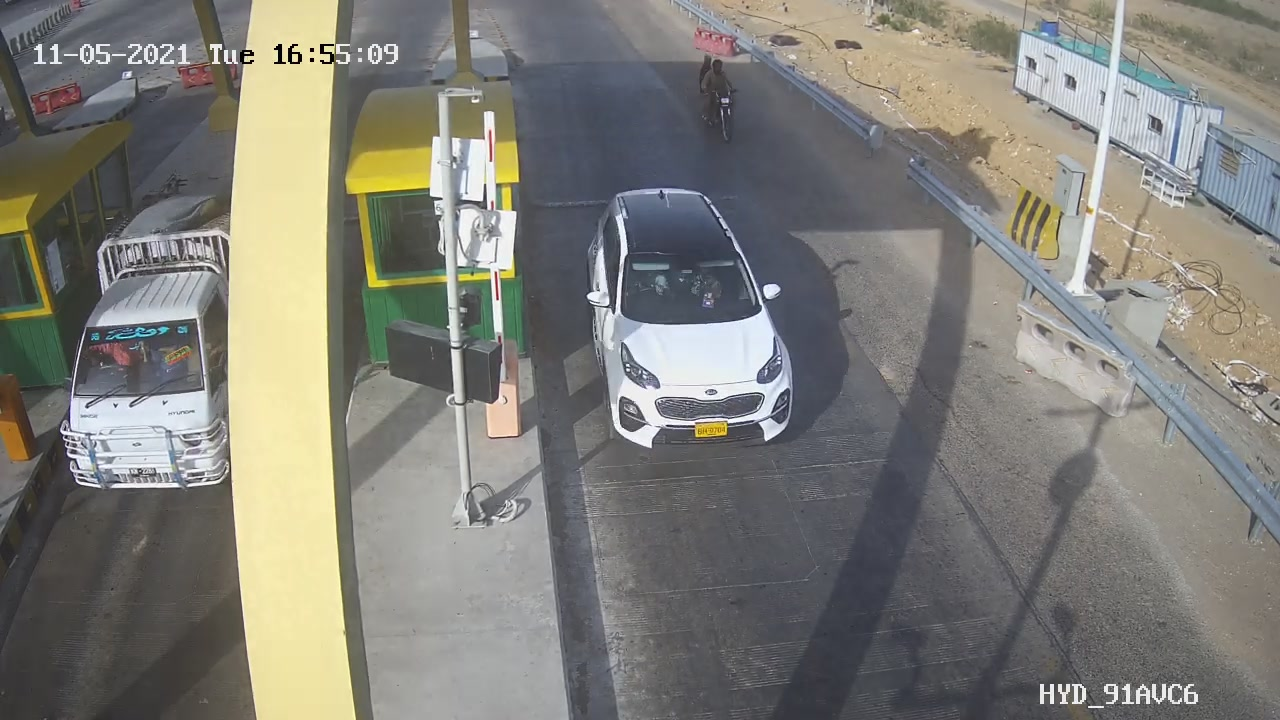F1: (563, 174, 830, 466)
